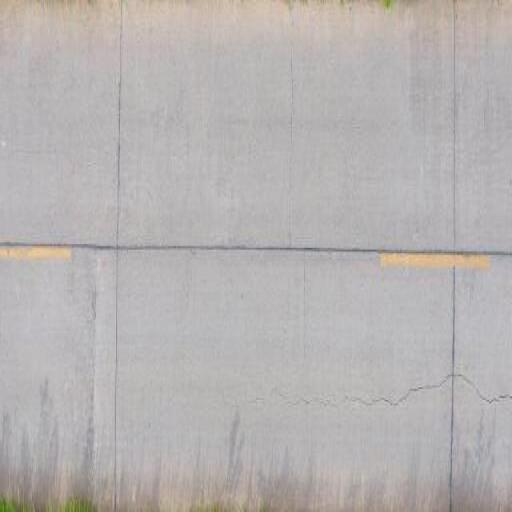moderate crack: (362, 344, 511, 431)
